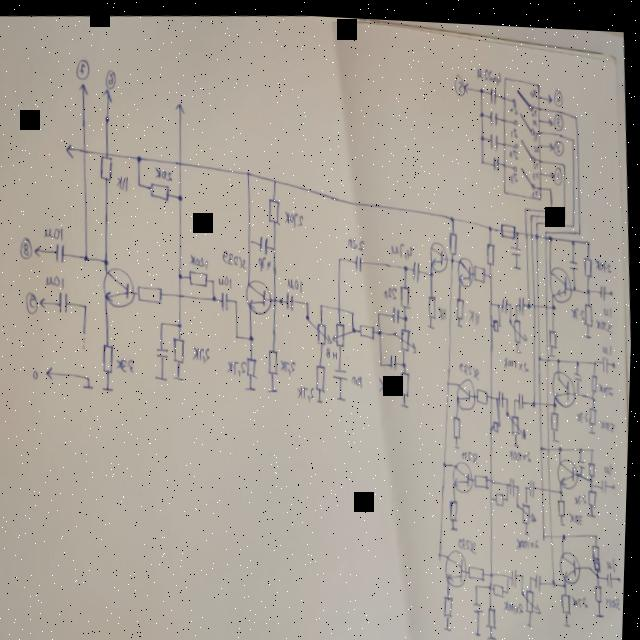capacitor: (59, 289, 72, 314), (334, 362, 351, 378), (56, 241, 68, 263), (222, 287, 232, 309), (490, 127, 501, 147), (260, 232, 271, 252), (394, 300, 404, 321), (490, 103, 501, 121), (414, 255, 423, 277), (158, 344, 173, 357), (569, 250, 582, 264), (511, 239, 524, 253), (600, 277, 610, 295), (490, 80, 499, 100), (288, 288, 297, 308), (356, 250, 365, 269), (537, 566, 546, 585), (531, 473, 540, 492), (391, 349, 401, 366), (520, 289, 528, 310), (514, 561, 522, 582), (579, 449, 590, 464), (610, 565, 619, 583), (520, 386, 529, 404), (512, 471, 520, 491), (604, 348, 612, 368), (476, 595, 488, 608), (493, 150, 502, 167), (502, 292, 511, 309), (575, 362, 585, 377), (500, 383, 507, 402), (603, 472, 611, 487)
crossover: (179, 289, 185, 298), (545, 297, 552, 304), (83, 145, 89, 153), (338, 301, 344, 309), (552, 526, 558, 534), (274, 294, 280, 301), (492, 565, 498, 572), (105, 149, 111, 155), (534, 297, 539, 304), (550, 438, 554, 446), (541, 393, 545, 401), (543, 480, 548, 486), (547, 350, 552, 356), (538, 297, 543, 303), (493, 472, 497, 479), (548, 394, 552, 401), (526, 225, 530, 232), (551, 481, 555, 487), (492, 388, 496, 394), (545, 229, 549, 234), (532, 227, 536, 232)
ground: (157, 371, 171, 381), (246, 381, 260, 390), (104, 383, 117, 392), (514, 257, 525, 267), (175, 371, 187, 380), (84, 382, 97, 390), (339, 390, 349, 400), (402, 396, 413, 405), (490, 629, 502, 637), (585, 325, 595, 334), (447, 619, 457, 628), (598, 605, 609, 613), (269, 384, 281, 391), (453, 520, 463, 528), (590, 504, 600, 511), (429, 318, 438, 325), (478, 625, 486, 632), (591, 422, 599, 429), (554, 431, 563, 437), (516, 435, 523, 442), (319, 394, 327, 400), (458, 317, 466, 323), (529, 615, 537, 621), (562, 515, 570, 521), (567, 616, 575, 622), (517, 343, 525, 349), (456, 438, 464, 444), (551, 347, 558, 352), (527, 525, 533, 530)
junction: (83, 253, 92, 262), (563, 526, 571, 536), (352, 320, 359, 330), (137, 152, 144, 161), (307, 309, 314, 318), (403, 355, 410, 364), (587, 280, 594, 289), (479, 81, 486, 89), (105, 256, 112, 264), (534, 393, 540, 402), (179, 191, 185, 200), (441, 546, 447, 555), (555, 572, 561, 581), (597, 524, 603, 533), (431, 264, 437, 273), (213, 291, 219, 300), (593, 388, 600, 395), (180, 270, 186, 278), (251, 331, 257, 339), (179, 319, 185, 327), (480, 105, 486, 113), (380, 324, 386, 332), (553, 296, 559, 304), (405, 260, 411, 268), (405, 310, 411, 318), (162, 316, 167, 325), (529, 295, 534, 304), (85, 301, 91, 308), (451, 252, 458, 258), (578, 223, 584, 230), (273, 242, 279, 249), (540, 348, 545, 356), (481, 128, 486, 136), (236, 295, 241, 303), (572, 232, 577, 240), (536, 227, 541, 235), (574, 278, 579, 286), (490, 219, 495, 226), (452, 210, 457, 217), (248, 167, 253, 174), (382, 356, 387, 363), (339, 252, 344, 259), (307, 295, 312, 302), (575, 107, 580, 114), (138, 179, 143, 186), (559, 350, 564, 357), (578, 352, 583, 359), (490, 266, 495, 273), (561, 438, 566, 445), (543, 439, 548, 446), (491, 295, 496, 302), (179, 157, 184, 164), (555, 395, 560, 402), (550, 180, 555, 187), (562, 156, 567, 163), (581, 440, 586, 447), (545, 527, 549, 535), (595, 352, 599, 360), (395, 325, 399, 333), (237, 330, 242, 336), (588, 233, 593, 239), (550, 229, 555, 235), (89, 374, 94, 380), (562, 483, 567, 489), (550, 202, 555, 208), (573, 216, 578, 222), (516, 296, 521, 302), (498, 297, 503, 303), (591, 559, 596, 565), (566, 576, 571, 582), (593, 441, 598, 447), (492, 490, 497, 496), (508, 404, 513, 410), (446, 455, 450, 462), (251, 234, 255, 241), (323, 298, 327, 305), (573, 130, 577, 137), (213, 275, 217, 282), (527, 478, 531, 485), (510, 568, 514, 575), (545, 222, 549, 229), (599, 566, 603, 573), (492, 578, 496, 585), (517, 224, 521, 231), (281, 294, 285, 301), (536, 215, 541, 220), (275, 175, 279, 181), (353, 306, 357, 312), (449, 375, 453, 381), (379, 305, 383, 311), (482, 153, 486, 159), (515, 391, 519, 397), (508, 390, 512, 396), (478, 578, 482, 584), (510, 583, 514, 589), (533, 568, 537, 574), (564, 209, 568, 215), (531, 207, 535, 213), (525, 201, 529, 207), (511, 296, 515, 302), (491, 316, 495, 322), (524, 567, 528, 573), (508, 490, 512, 496), (508, 475, 512, 481), (583, 465, 587, 471), (579, 384, 583, 390), (519, 497, 523, 503), (525, 585, 529, 591), (500, 317, 504, 322), (492, 419, 496, 423), (519, 478, 523, 482), (501, 416, 504, 420)
resistor: (400, 321, 421, 351), (139, 281, 166, 304), (510, 311, 531, 339), (528, 581, 546, 610), (513, 407, 532, 434), (150, 179, 173, 201), (104, 341, 119, 373), (524, 495, 541, 523), (334, 317, 351, 345), (316, 317, 335, 342), (583, 295, 599, 324), (175, 332, 189, 364), (269, 192, 283, 223), (190, 266, 211, 286), (101, 153, 116, 180), (248, 352, 262, 378), (401, 365, 414, 393), (448, 224, 461, 252), (317, 360, 329, 389), (471, 558, 489, 577), (488, 601, 502, 625), (401, 280, 414, 305), (271, 344, 282, 373), (595, 537, 606, 566), (446, 589, 459, 613), (501, 216, 518, 234), (361, 318, 378, 336), (477, 467, 493, 485), (451, 493, 463, 517), (429, 289, 440, 315), (585, 249, 597, 272), (550, 321, 562, 344), (564, 586, 576, 609), (454, 409, 465, 434), (475, 258, 488, 279), (487, 236, 498, 260), (479, 381, 492, 400), (458, 291, 468, 315), (590, 481, 601, 502), (496, 577, 510, 592), (598, 577, 608, 597), (552, 405, 562, 425), (590, 453, 601, 471), (592, 367, 602, 386), (560, 492, 570, 511), (591, 400, 601, 418), (497, 486, 509, 501), (496, 414, 503, 428), (495, 313, 502, 324)
switch: (514, 158, 538, 185), (513, 105, 537, 131), (513, 81, 535, 107), (515, 132, 537, 157)
terminal: (102, 86, 115, 102), (47, 364, 58, 381), (66, 142, 77, 158), (79, 81, 90, 96), (175, 99, 186, 114), (40, 295, 50, 309), (37, 243, 44, 258), (464, 76, 471, 89), (547, 86, 554, 99), (548, 134, 555, 146), (548, 111, 555, 121), (550, 163, 557, 173), (610, 282, 617, 290), (614, 475, 620, 484), (613, 353, 619, 362), (621, 569, 626, 576)
text: (222, 245, 250, 269), (477, 60, 503, 82), (504, 348, 532, 367), (391, 236, 417, 256), (461, 354, 484, 376), (380, 371, 402, 392), (228, 356, 250, 376), (26, 288, 42, 315), (286, 206, 307, 226), (193, 342, 214, 362), (461, 530, 481, 550), (511, 442, 536, 458), (46, 273, 68, 291), (299, 380, 318, 400), (190, 251, 212, 268), (76, 57, 92, 80), (117, 355, 138, 372), (507, 593, 528, 610), (608, 587, 626, 606), (463, 443, 483, 460), (21, 236, 35, 260), (154, 163, 175, 179), (289, 273, 306, 292), (282, 354, 299, 373), (520, 531, 543, 545), (596, 311, 616, 327), (116, 172, 132, 192), (45, 224, 66, 239), (570, 504, 588, 521), (348, 231, 367, 247), (576, 587, 593, 604), (602, 411, 620, 427), (596, 251, 615, 266), (470, 302, 484, 322), (105, 68, 119, 88), (259, 252, 274, 270), (571, 300, 587, 316), (384, 281, 400, 297), (220, 270, 235, 287), (576, 403, 592, 418), (604, 454, 618, 471), (602, 375, 617, 390), (576, 486, 592, 500), (353, 369, 367, 385), (609, 549, 621, 566), (439, 300, 450, 317), (603, 298, 617, 311), (509, 165, 521, 180), (604, 336, 616, 350), (509, 142, 521, 156), (79, 60, 89, 74), (531, 183, 542, 195), (34, 367, 43, 381), (510, 98, 520, 110), (510, 121, 519, 134), (83, 332, 90, 348), (31, 293, 38, 308), (328, 342, 335, 356), (25, 242, 32, 256), (530, 82, 538, 94), (457, 75, 465, 87), (557, 110, 564, 122), (335, 345, 342, 357), (108, 71, 115, 83), (533, 127, 542, 136), (557, 163, 563, 176), (533, 166, 541, 174), (533, 155, 541, 163), (532, 103, 538, 113), (556, 88, 562, 98), (535, 139, 541, 148), (557, 138, 562, 147), (533, 114, 539, 121)
transistor: (103, 263, 138, 308), (246, 274, 277, 314), (553, 362, 581, 402), (550, 259, 576, 299), (447, 543, 473, 583), (562, 542, 586, 580), (559, 451, 584, 484), (454, 455, 478, 489), (457, 372, 480, 407), (430, 235, 451, 269), (457, 250, 477, 283)
